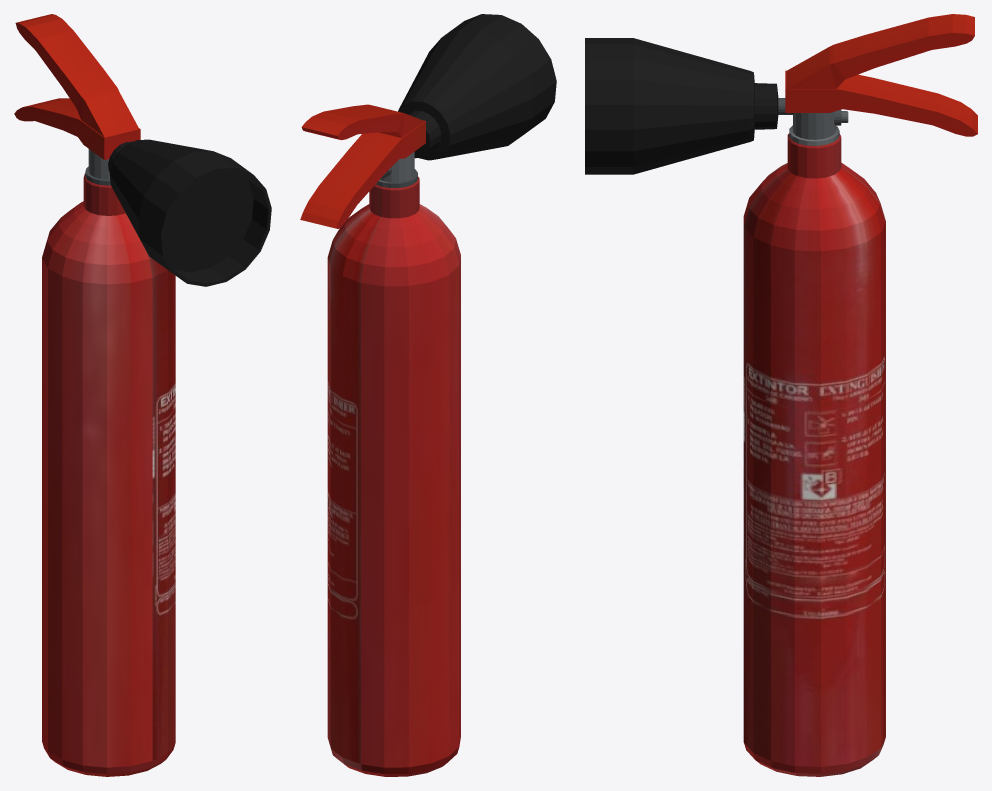
Rendered from extincteur.obj.
The picture shows the model from 3 angles, left to right: view 1: azimuth 30°, elevation 25°; view 2: azimuth 150°, elevation 25°; view 3: azimuth 270°, elevation 25°; orthographic projection. The views are drawn at different scales.
Visible parts, largest first — view 1: Cylinder.001_Cylinder.002; view 2: Cylinder.001_Cylinder.002; view 3: Cylinder.001_Cylinder.002.
Part boxes in pixels (<box>): Cylinder.001_Cylinder.002: <box>14,14,271,776</box>; Cylinder.001_Cylinder.002: <box>300,14,556,776</box>; Cylinder.001_Cylinder.002: <box>585,14,977,776</box>.
Bounding box in the file's own units: 0.1732 × 0.9762 × 0.4768.
2 materials, 2 textured.
